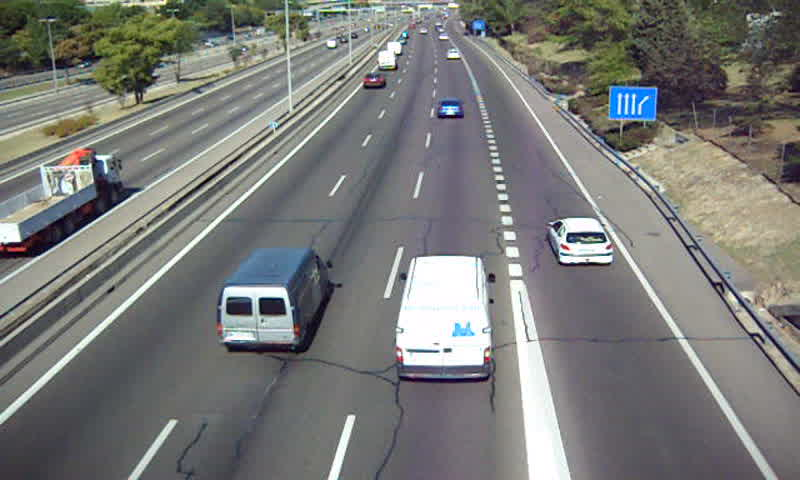car: (546, 216, 614, 267), (435, 98, 466, 118), (363, 71, 387, 88)
van: (395, 256, 495, 380), (217, 246, 331, 350), (377, 50, 397, 70)
